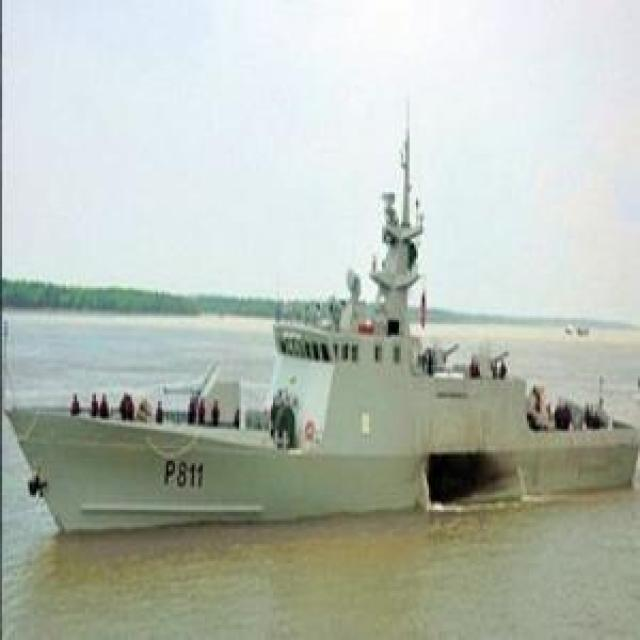navalvessels: (12, 143, 640, 530)
